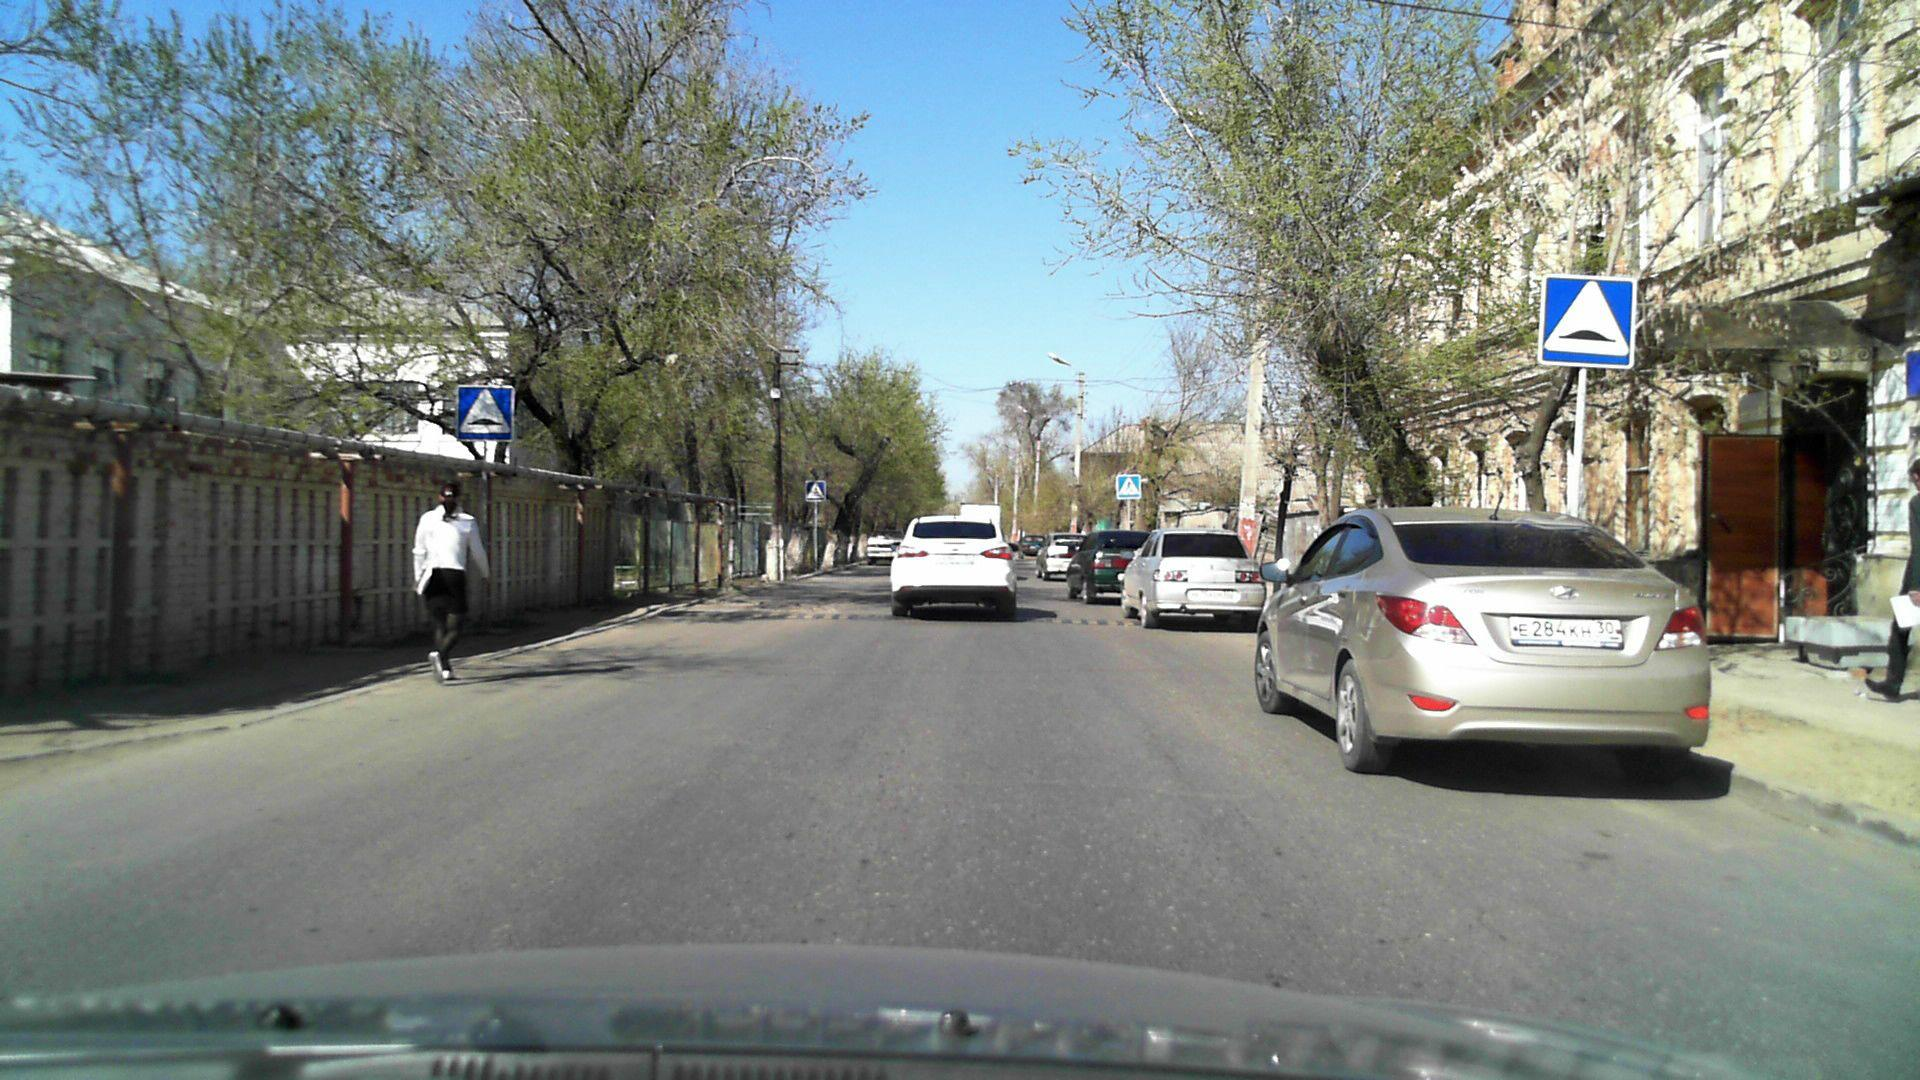5_19_1: (1117, 476, 1142, 500)
5_19_2: (804, 480, 827, 501)
5_20: (1536, 272, 1634, 368), (456, 384, 516, 444)
